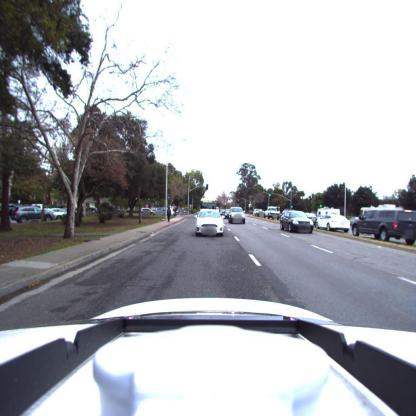car: (352, 208, 416, 244), (13, 204, 59, 223), (278, 210, 314, 234), (196, 210, 224, 236), (316, 213, 350, 233), (44, 209, 67, 221), (230, 208, 246, 224), (266, 207, 281, 220), (140, 206, 156, 216), (221, 210, 230, 221), (254, 210, 264, 218)
